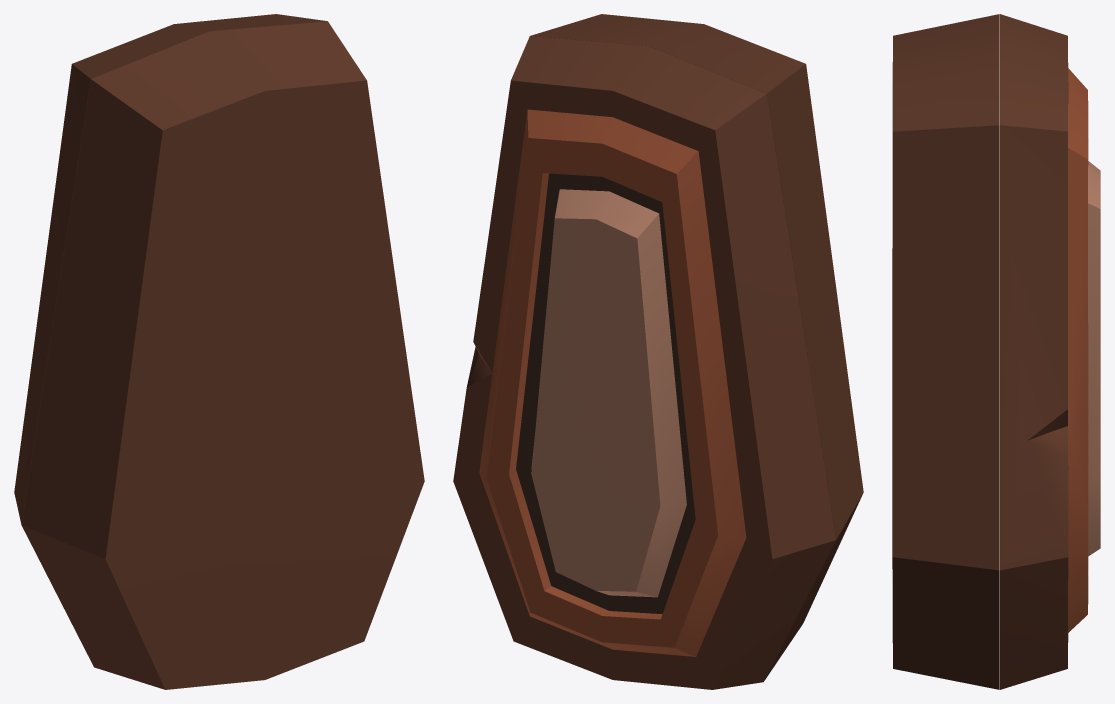
Rendered from Coffin 01.FBX.
The picture shows the model from 3 angles, left to right: view 1: azimuth 30°, elevation 25°; view 2: azimuth 150°, elevation 25°; view 3: azimuth 270°, elevation 25°; orthographic projection. The views are drawn at different scales.
Visible parts, largest first — view 1: Coffin 01, Coffin 01 Cover; view 2: Coffin 01 Cover, Coffin 01; view 3: Coffin 01, Coffin 01 Cover.
Boxes of the visible parts, x1,y1,x2,y2 form: Coffin 01: (21,21,424,689); Coffin 01 Cover: (14,14,327,666); Coffin 01 Cover: (453,36,835,689); Coffin 01: (530,14,863,680); Coffin 01: (892,14,999,689); Coffin 01 Cover: (1000,14,1100,689).
Size of the model in its own units: 185 by 295 by 92.62.
